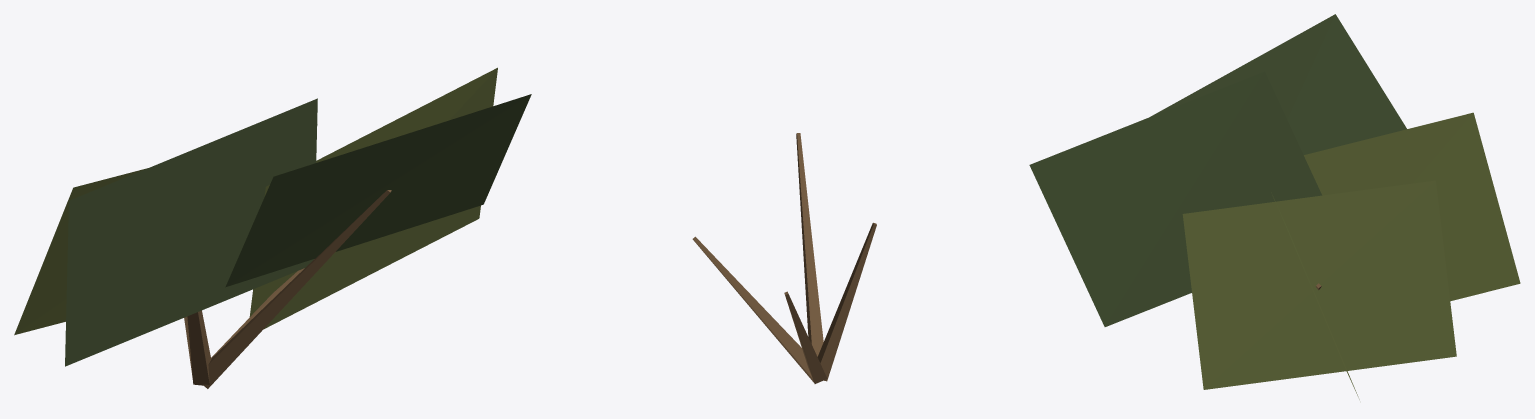
Rendered from round_bush-far.glb.
3 views of the same model, side by side, from view 1: azimuth 30°, elevation 25°; view 2: azimuth 150°, elevation 25°; view 3: azimuth 270°, elevation 25° (orthographic). The views are drawn at different scales.
Parts seen in each view (by area): view 1: world-scenery/round_bush-far; view 2: world-scenery/round_bush-far; view 3: world-scenery/round_bush-far.
Part boxes in pixels (bbox=[...]): world-scenery/round_bush-far: bbox=[14, 67, 531, 388]; world-scenery/round_bush-far: bbox=[692, 133, 876, 383]; world-scenery/round_bush-far: bbox=[1029, 14, 1520, 399].
Size of the model in its own units: 1.59 by 1.16 by 1.61.
